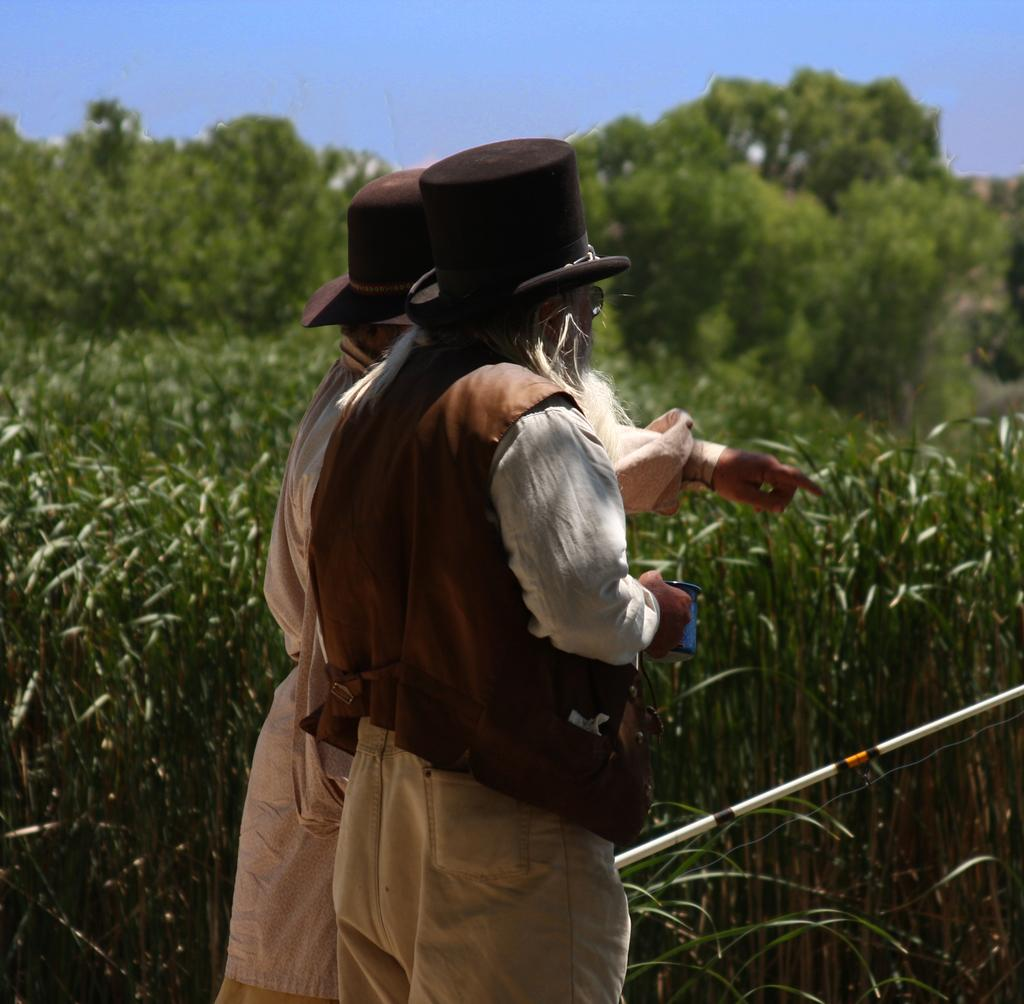Hat: (405, 136, 637, 335), (300, 158, 448, 333)
